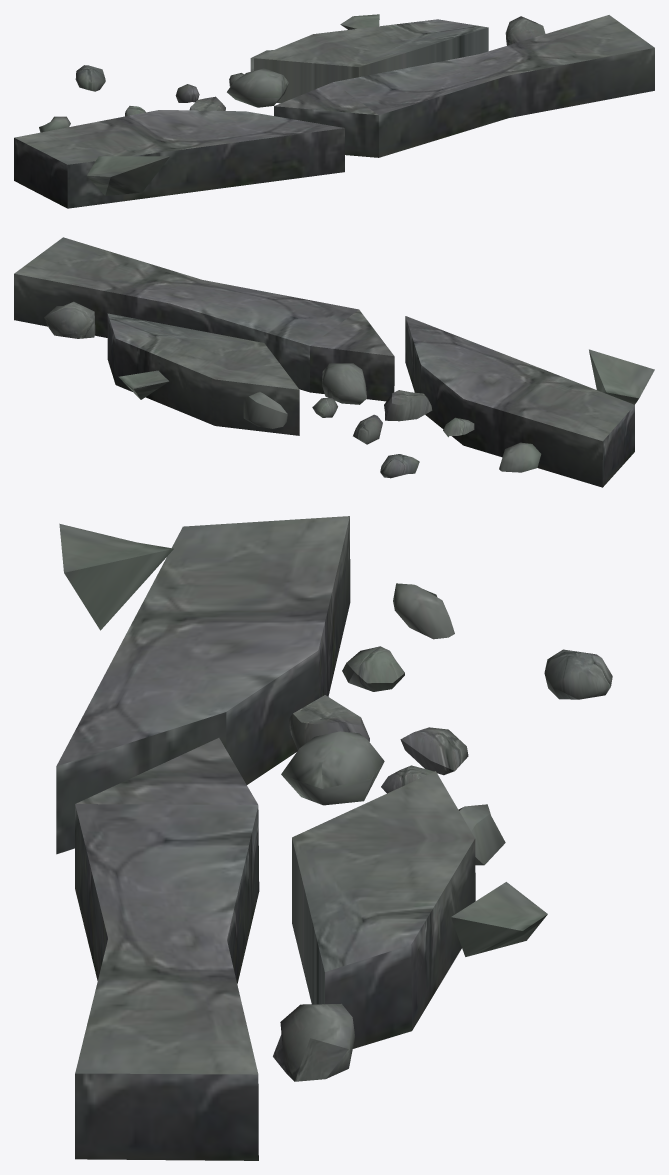
File: Battle01_BrokenStep_01.FBX
3 views of the same model, one above another, from view 1: azimuth 30°, elevation 25°; view 2: azimuth 150°, elevation 25°; view 3: azimuth 270°, elevation 25° (orthographic). The views are drawn at different scales.
Visible parts, largest first — view 1: C01_BrokenStep_01; view 2: C01_BrokenStep_01; view 3: C01_BrokenStep_01.
Part boxes in pixels (x1,y1,x2,y2): C01_BrokenStep_01: (14, 14, 654, 208); C01_BrokenStep_01: (14, 237, 654, 487); C01_BrokenStep_01: (56, 516, 612, 1160).
Size of the model in its own units: 6.16 by 0.5809 by 2.6.
